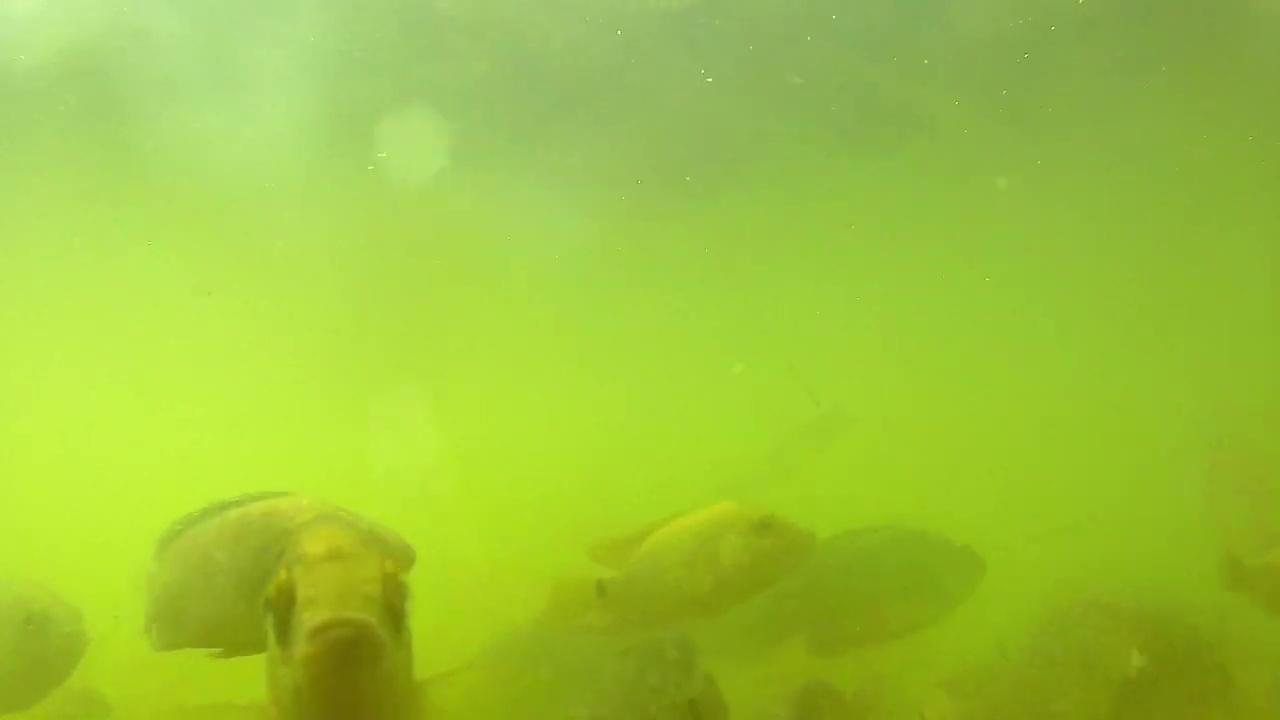Tilapia: (249, 516, 414, 720), (766, 520, 991, 652), (563, 508, 806, 626)
